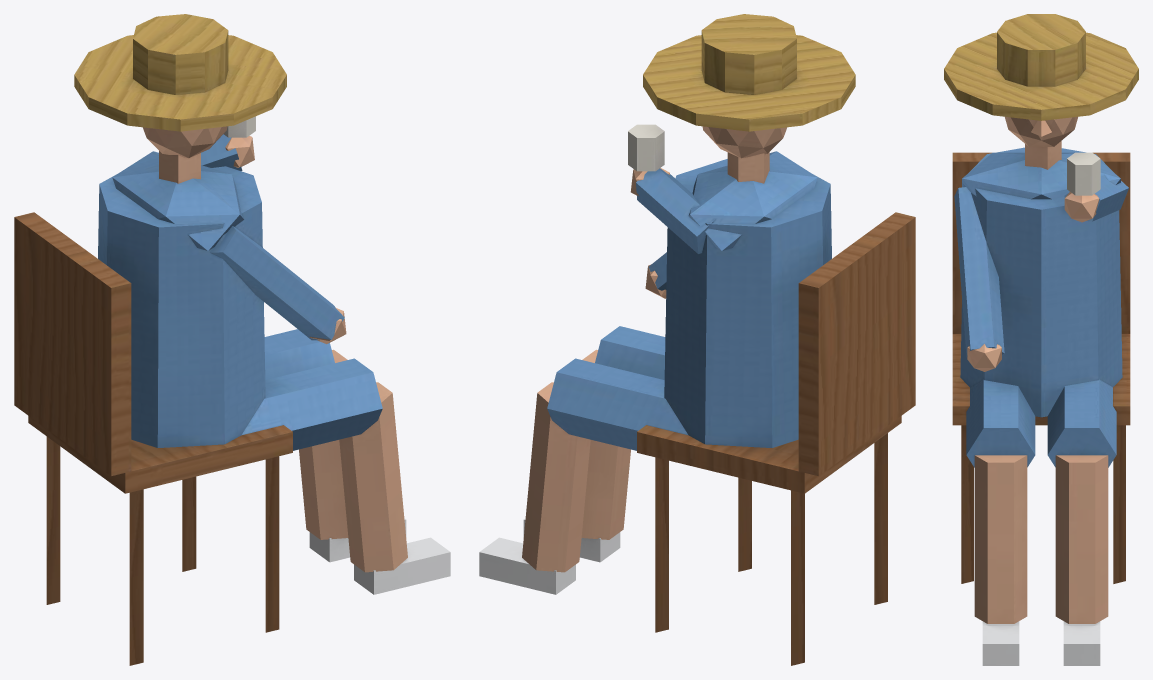
The model's file is fikagast_1_tex.glb.
3 views of the same model, side by side, from view 1: azimuth 30°, elevation 25°; view 2: azimuth 150°, elevation 25°; view 3: azimuth 270°, elevation 25° (orthographic). The views are drawn at different scales.
Visible parts, largest first — view 1: fikagast_1; view 2: fikagast_1; view 3: fikagast_1.
Boxes of the visible parts, x1,y1,x2,y2 form: fikagast_1: (14, 14, 450, 665); fikagast_1: (479, 14, 915, 665); fikagast_1: (944, 14, 1138, 665).
Size of the model in its own units: 0.8902 by 1.38 by 0.4608.
9 materials, 8 textured.
